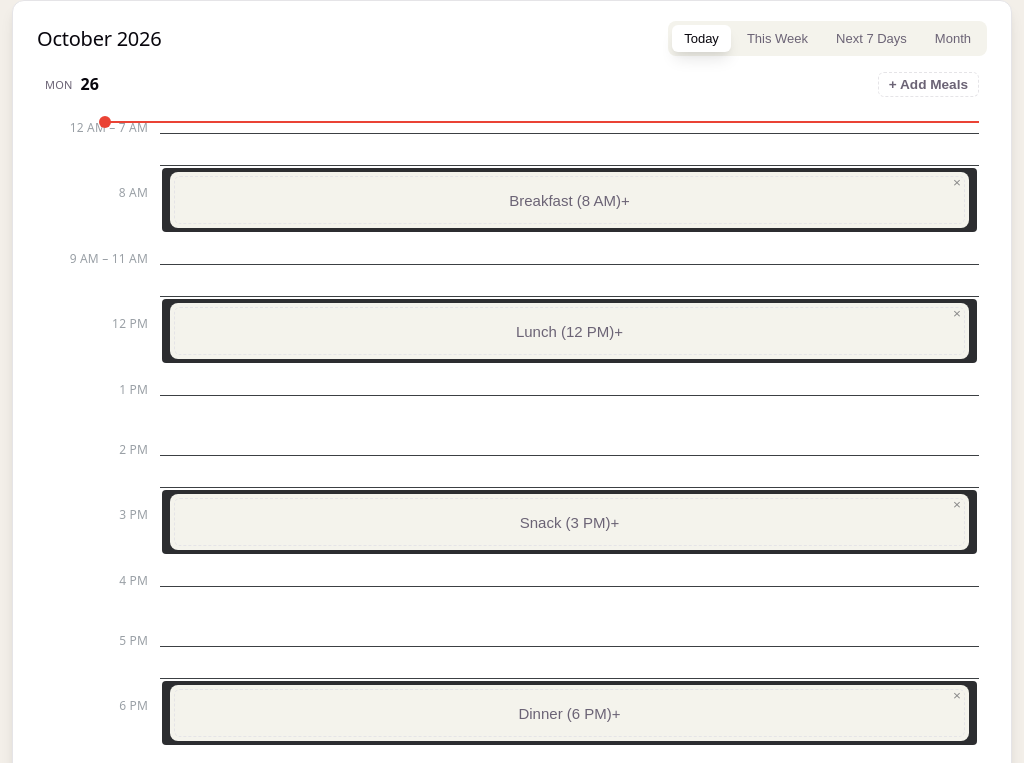
Scenario: Per-Day Meal Slot Management (Add & Remove Meals) › deletes a meal slot for a specific day when clicking its × button
This screenshot has width=1024, height=763.
Expected: the text "Breakfast (8 AM)" is shown, [509,192,621,208]
Step 1. Click the button named "Remove Breakfast on" → [957, 183], box [949,174,965,192]
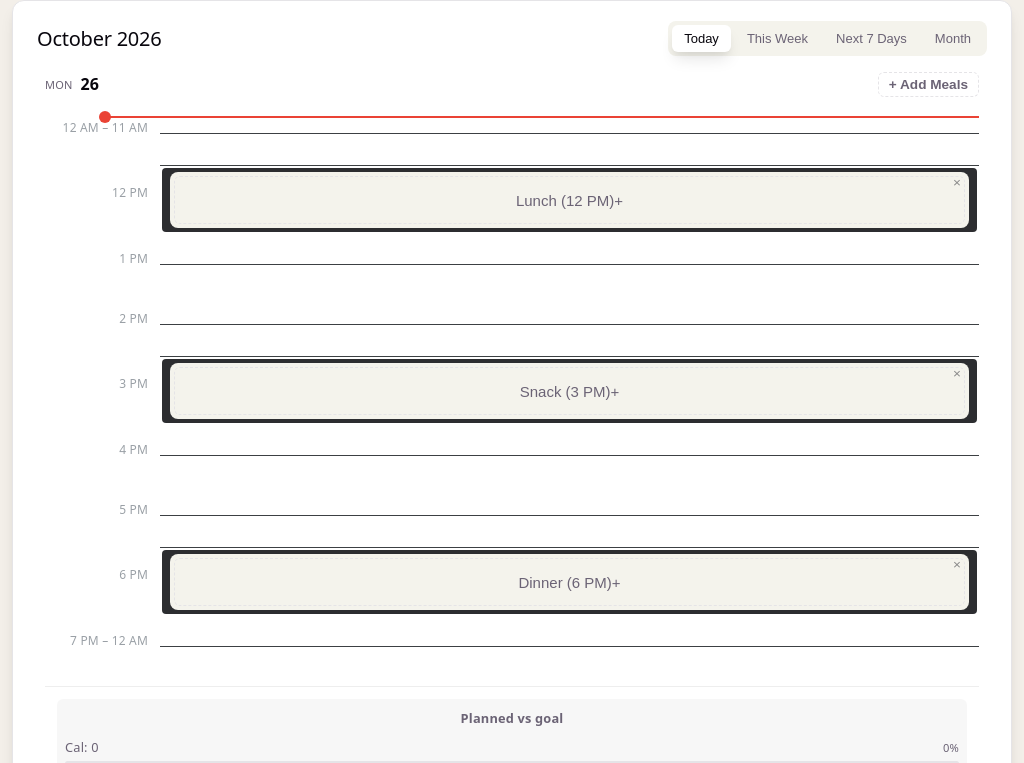
Result: the button "Breakfast (8 AM)" is gone
